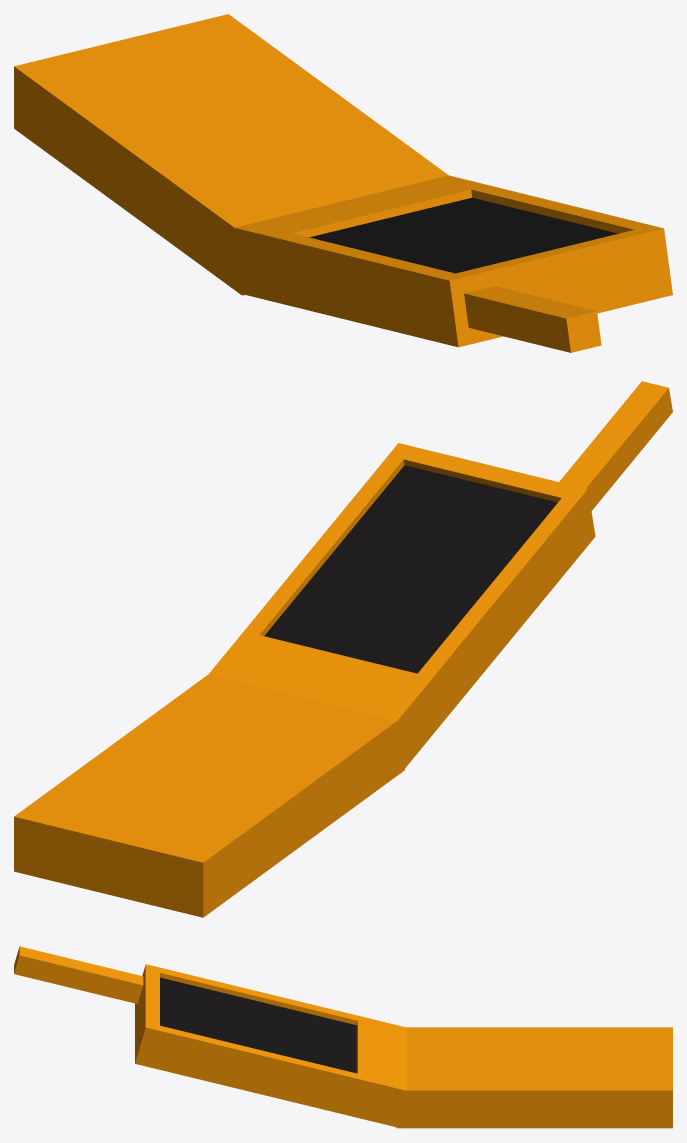
Rendered from Phone.FBX.
The picture shows the model from 3 angles, top to bottom: view 1: azimuth 30°, elevation 25°; view 2: azimuth 150°, elevation 25°; view 3: azimuth 270°, elevation 25°; orthographic projection. The views are drawn at different scales.
Parts seen in each view (by area): view 1: Phone; view 2: Phone; view 3: Phone.
Boxes of the visible parts, bbox=[...] form: Phone: bbox=[14, 14, 672, 352]; Phone: bbox=[14, 381, 672, 917]; Phone: bbox=[14, 946, 672, 1128].
Bounding box in the file's own units: 2.76 × 2.49 × 12.12.
1 material, 1 textured.
